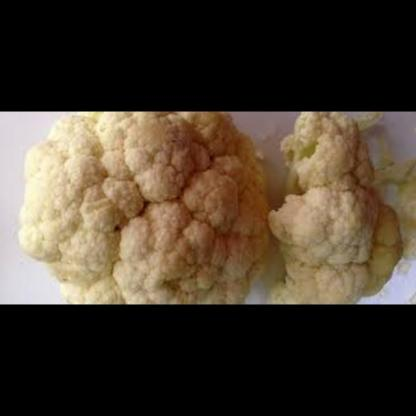cayliflower: (24, 112, 261, 305), (264, 112, 402, 305)
